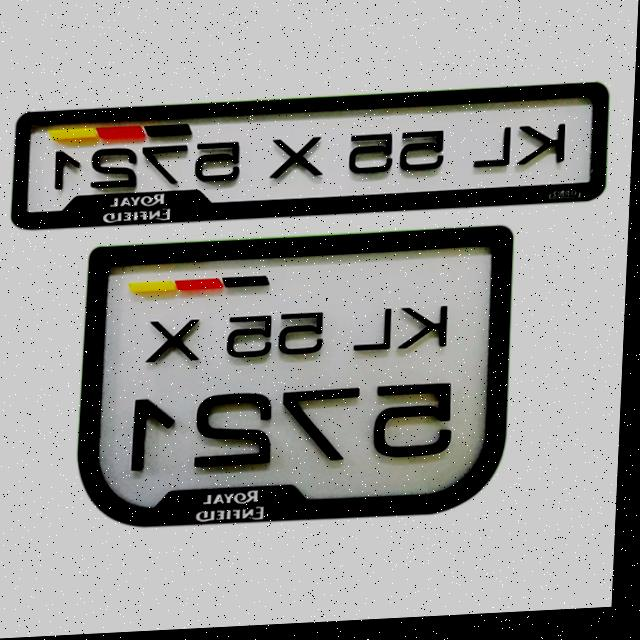plate: (73, 226, 520, 538), (8, 81, 617, 235)
